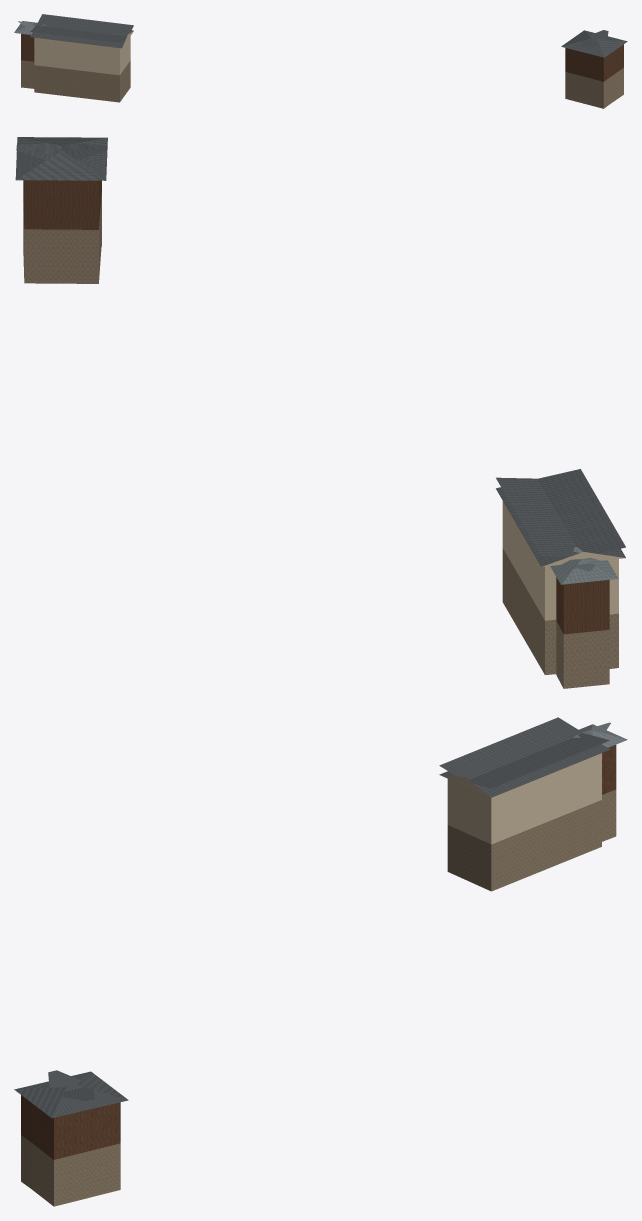
Rendered from bld_c39_46_195.gltf.
The picture shows the model from 3 angles, top to bottom: view 1: azimuth 30°, elevation 25°; view 2: azimuth 150°, elevation 25°; view 3: azimuth 270°, elevation 25°; orthographic projection. The views are drawn at different scales.
Visible parts, largest first — view 1: bld_c39_46_195; view 2: bld_c39_46_195; view 3: bld_c39_46_195.
Boxes of the visible parts, bbox=[...] form: bld_c39_46_195: bbox=[14, 14, 627, 108]; bld_c39_46_195: bbox=[15, 137, 625, 688]; bld_c39_46_195: bbox=[14, 717, 627, 1206].
Size of the model in its own units: 89.64 by 12.2 by 60.41.
Materials: 6 (6 with a texture image).
